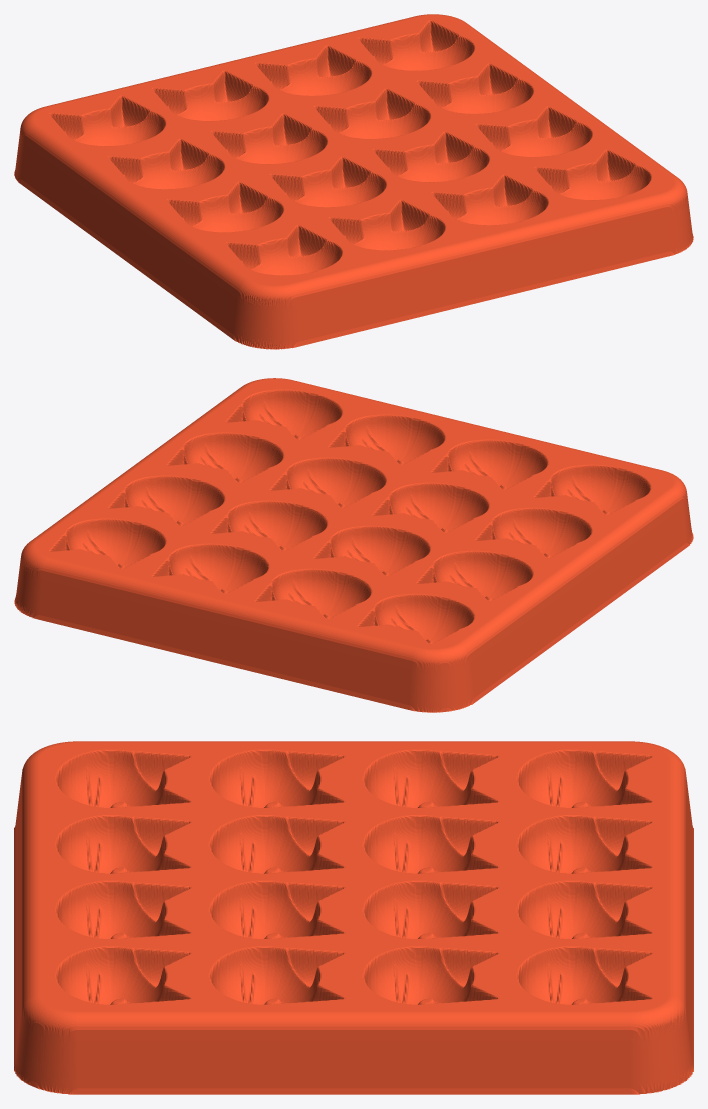
Rendered from mold.glb.
3 views of the same model, one above another, from view 1: azimuth 30°, elevation 25°; view 2: azimuth 150°, elevation 25°; view 3: azimuth 270°, elevation 25° (orthographic). The views are drawn at different scales.
Visible parts, largest first — view 1: geometry_0; view 2: geometry_0; view 3: geometry_0.
Part boxes in pixels (x1=…): geometry_0: x1=14, y1=14, x2=693, y2=349; geometry_0: x1=14, y1=378, x2=693, y2=712; geometry_0: x1=14, y1=741, x2=693, y2=1094.
Size of the model in its own units: 0.0972 by 0.0114 by 0.0964.
